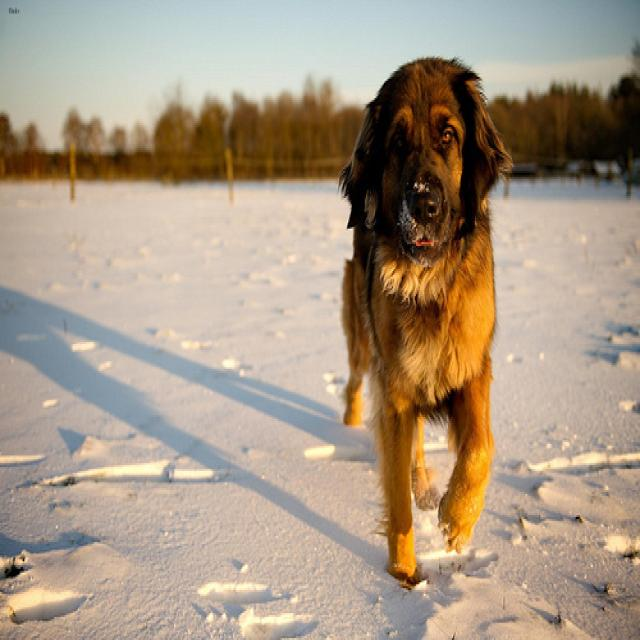dog-leonberger: (330, 40, 518, 598)
